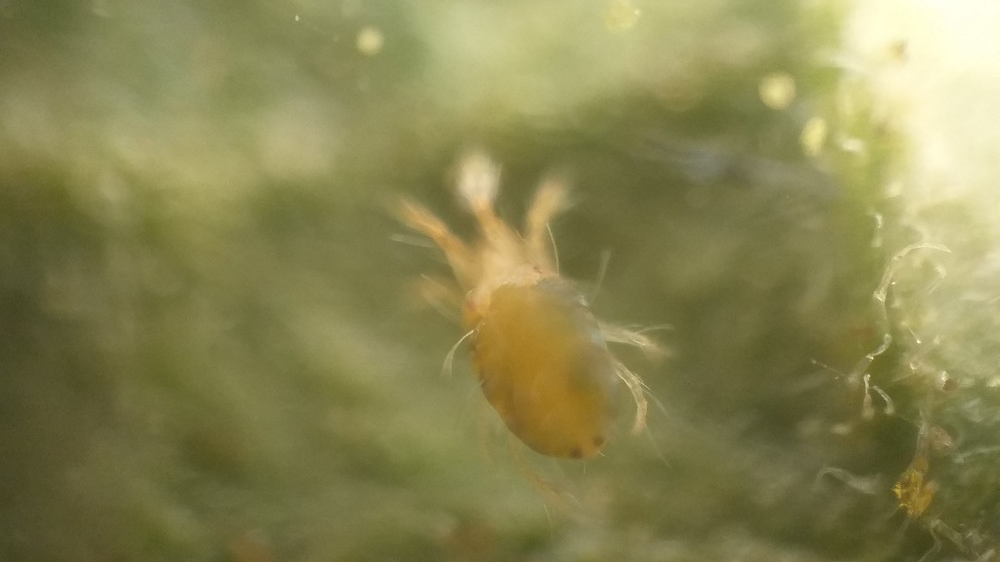Aracnido Rojo: (313, 43, 651, 442)
